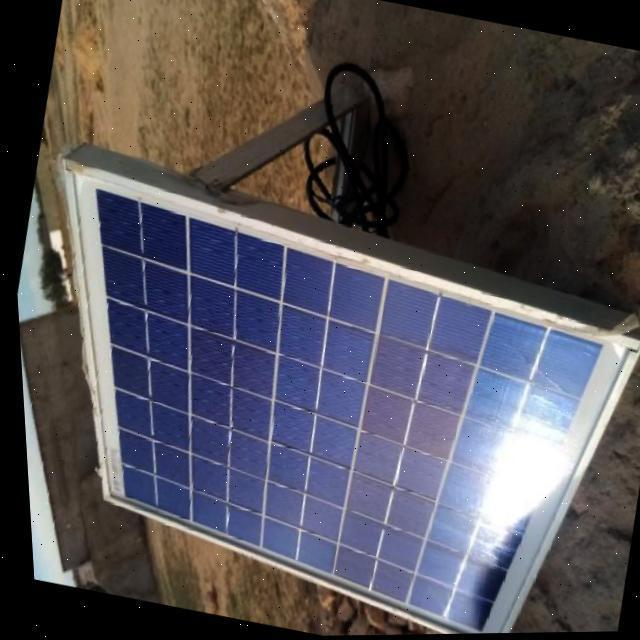Normal Solar Panel: (8, 155, 640, 640)
